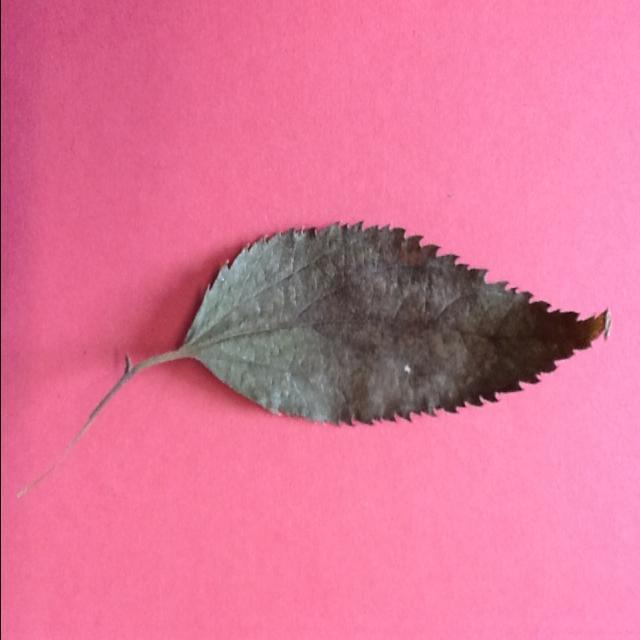foliage: (14, 223, 614, 502)
